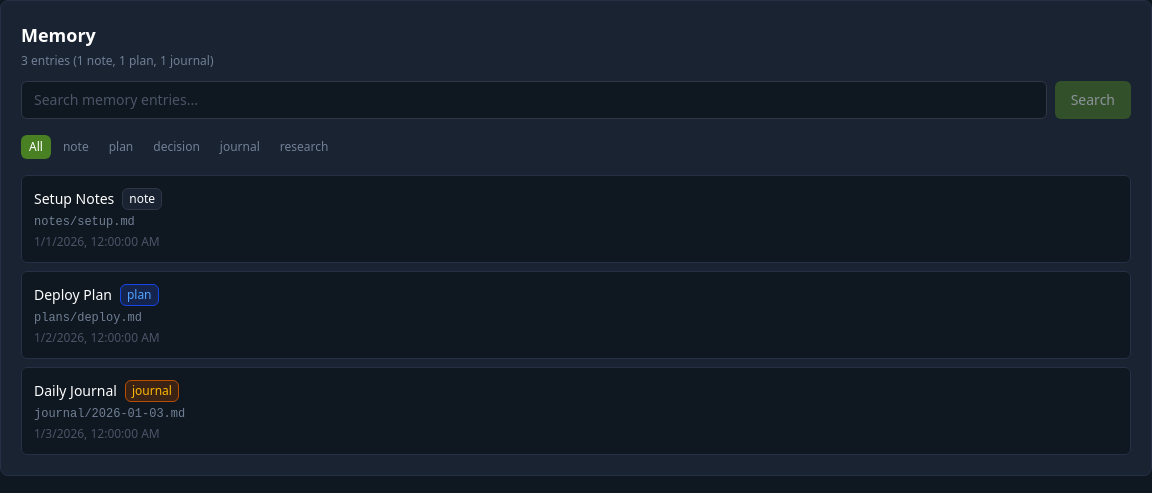
AgentMemory › T4: search shows results
Expected: the element with test id "entry-list" is shown, [21,175,1131,455]
In the field with placeholder "Search memory entries...": (534, 100) [21,81,1047,119], type "setup"
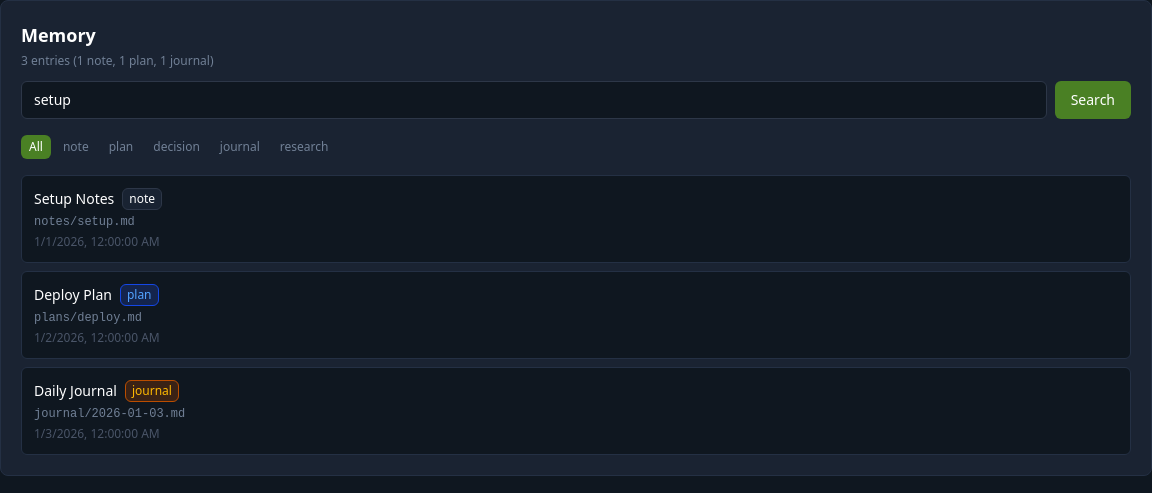
Submit the form with placeholder "Search memory entries...", box [21,81,1131,119]
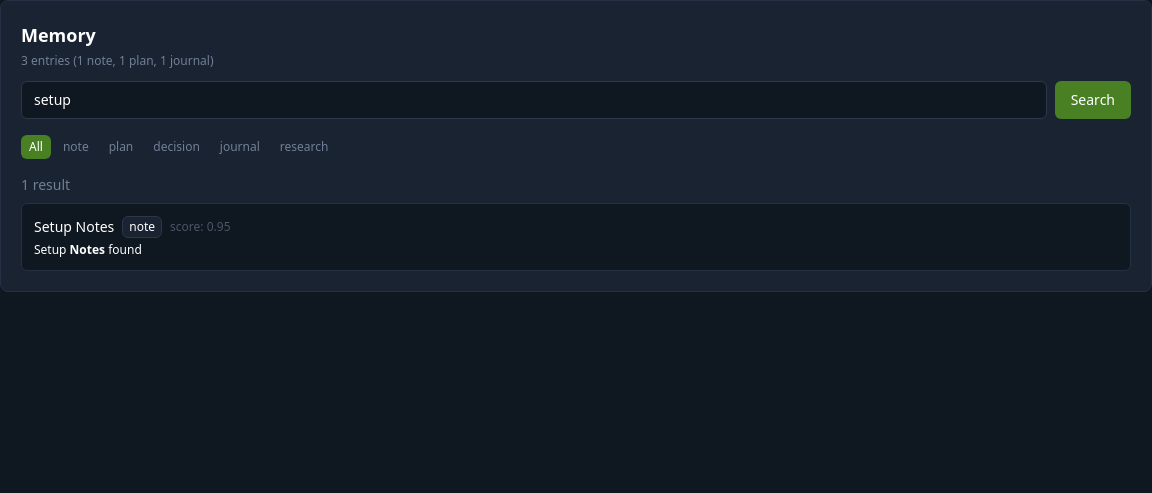
Expected: the button with test id "search-result" is shown, [21,203,1131,271]
Expected: the text "1 result" is shown, [21,175,70,194]
